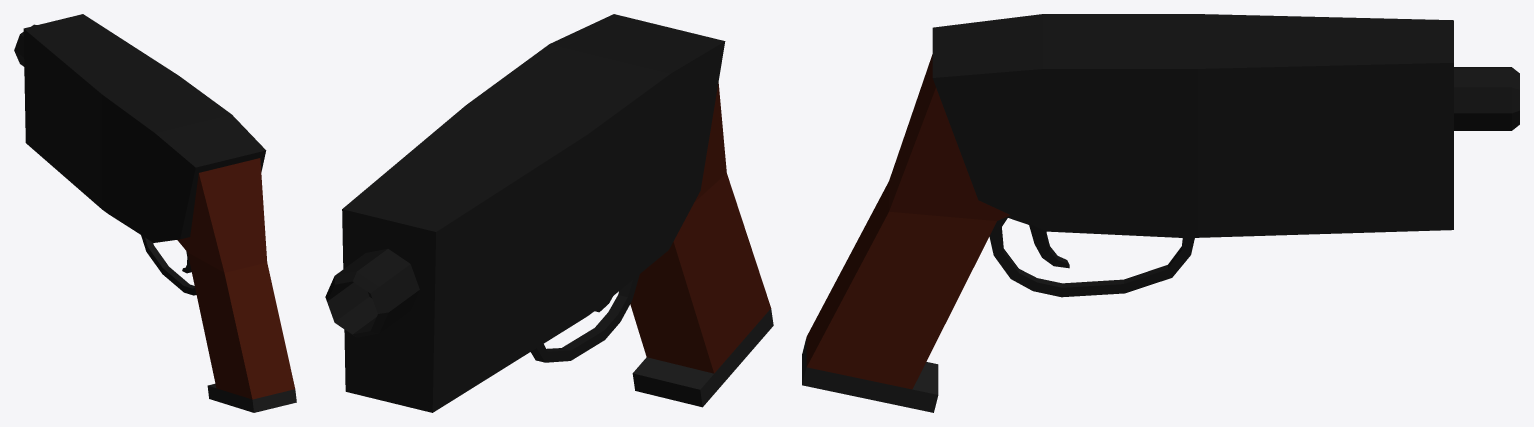
Rendered from arma.obj.
3 views of the same model, side by side, from view 1: azimuth 30°, elevation 25°; view 2: azimuth 150°, elevation 25°; view 3: azimuth 270°, elevation 25° (orthographic). The views are drawn at different scales.
Parts seen in each view (by area): view 1: Cube_0, Cube.001_0, Cube.001_1; view 2: Cube_0, Cube.001_0, Cube.001_1; view 3: Cube_0, Cube.001_0, Cube.001_1.
Boxes of the visible parts, x1,y1,x2,y2 form: Cube_0: [14, 14, 266, 295]; Cube.001_0: [177, 158, 295, 399]; Cube.001_1: [207, 384, 296, 412]; Cube_0: [325, 14, 725, 412]; Cube.001_0: [630, 82, 770, 373]; Cube.001_1: [632, 308, 773, 407]; Cube_0: [932, 14, 1519, 297]; Cube.001_0: [806, 54, 1010, 389]; Cube.001_1: [802, 337, 938, 412].
Bounding box in the file's own units: 1.58 × 4.75 × 8.69.
